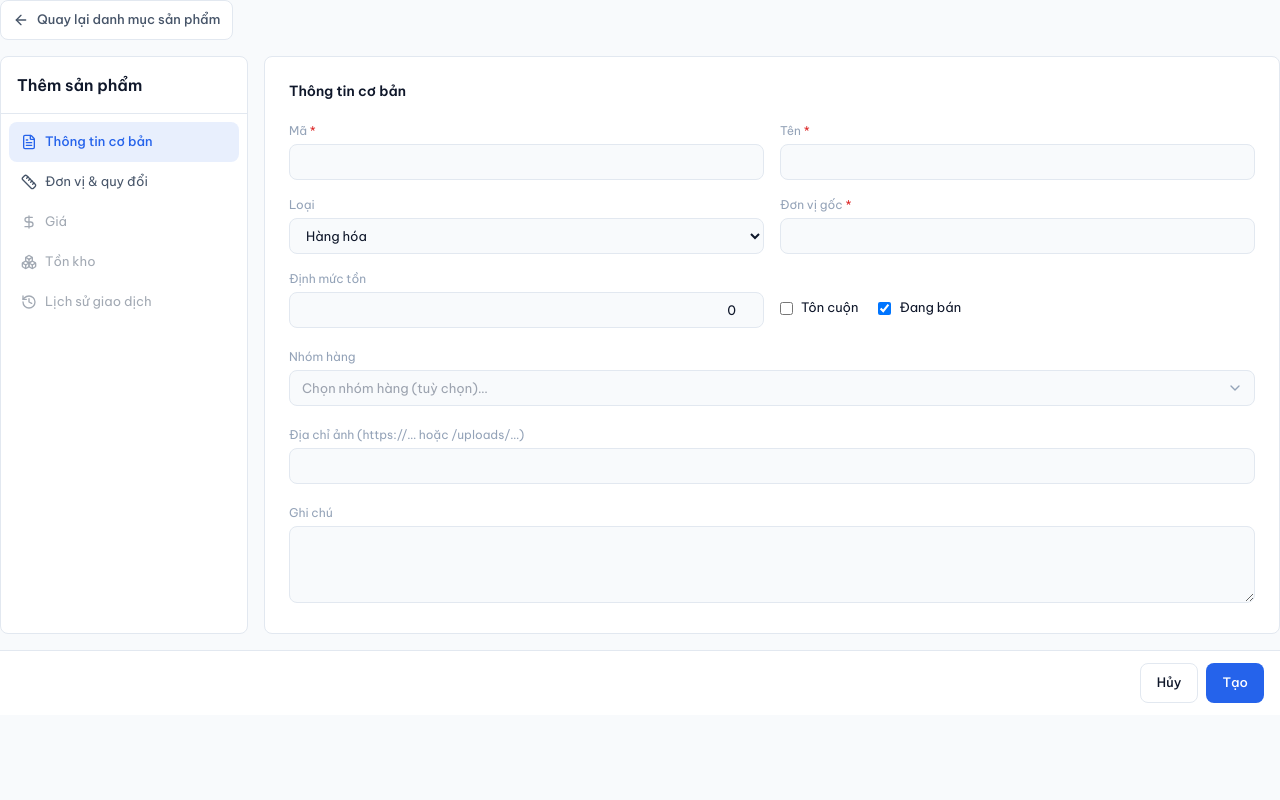
ProductNewForm — tab dọc › thiếu mã/tên ở tab đầu nhưng đang ở tab Đơn vị ⇒ nhảy về tab đầu, không gọi API
The width and height of the screenshot is (1280, 800).
Step 1. Click the tab "Đơn vị & quy đổi" → (124, 182), box top-left (9, 162), bottom-right (239, 202)
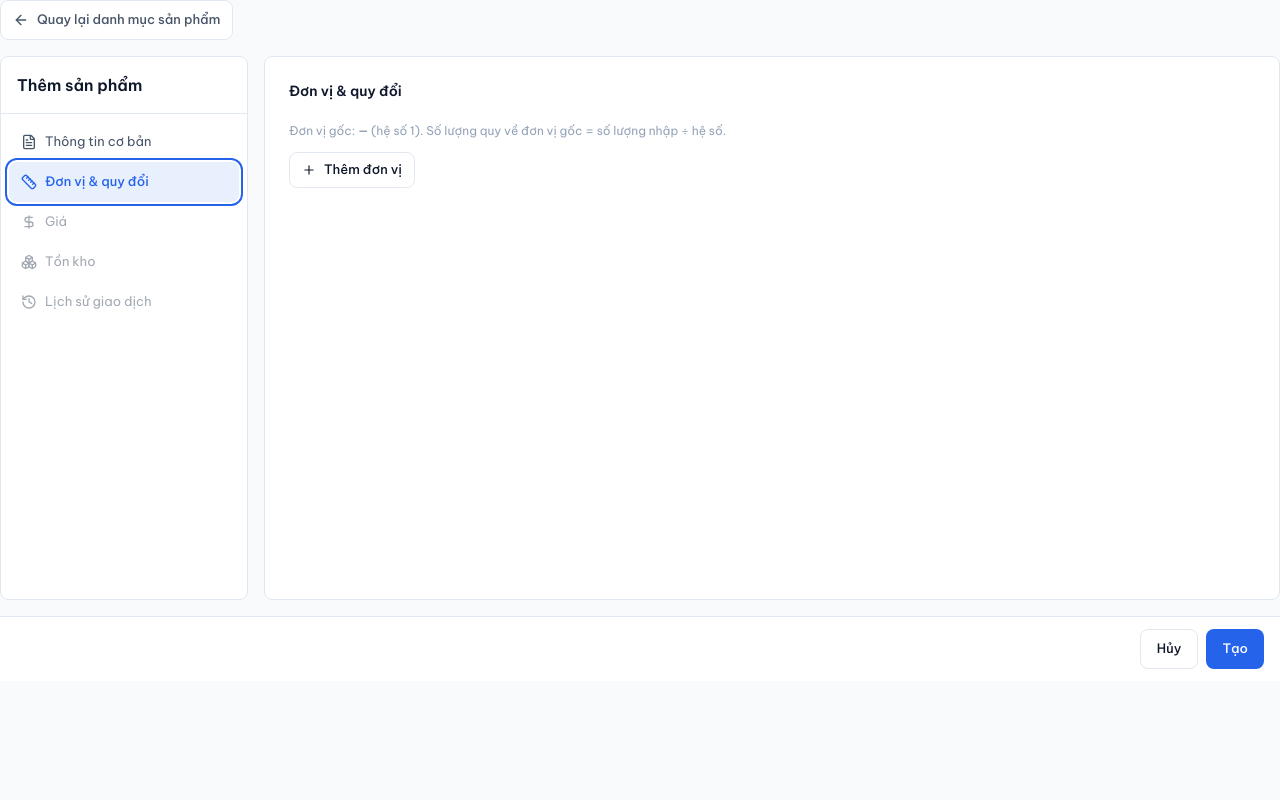
Step 2. Click the button "Tạo" → (1235, 649), box top-left (1206, 629), bottom-right (1264, 669)
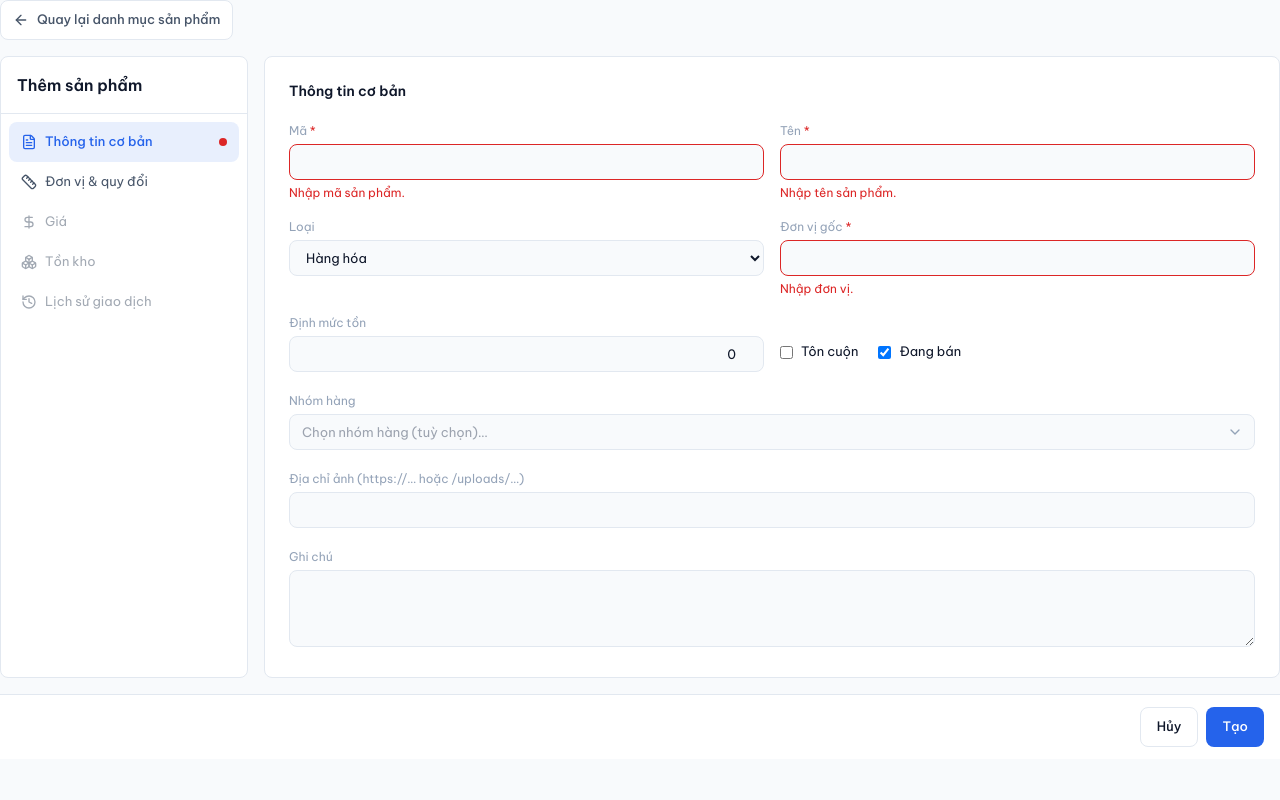
Now the field labelled "Mã *" is shown, box top-left (289, 144), bottom-right (764, 180)
